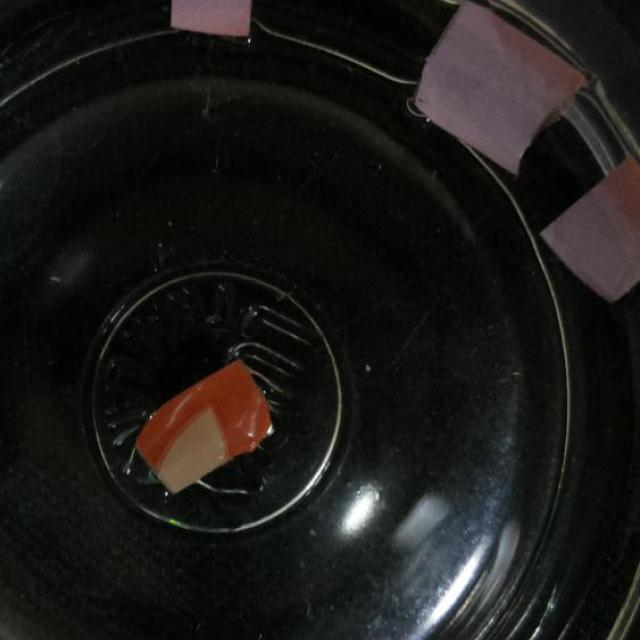fiber: (413, 0, 591, 175), (125, 359, 281, 485), (534, 154, 639, 302), (162, 0, 262, 52)
